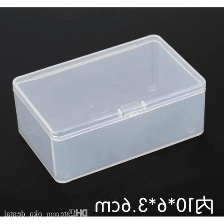plastic_box: (6, 28, 213, 189)
